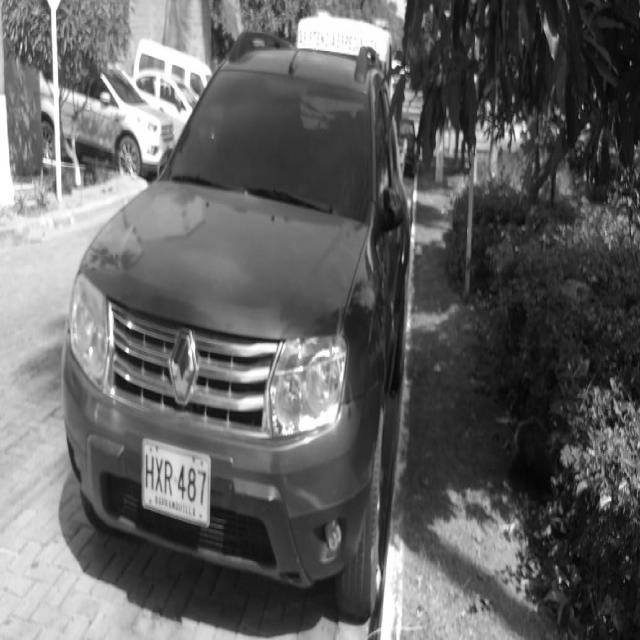plate: (140, 433, 214, 535)
